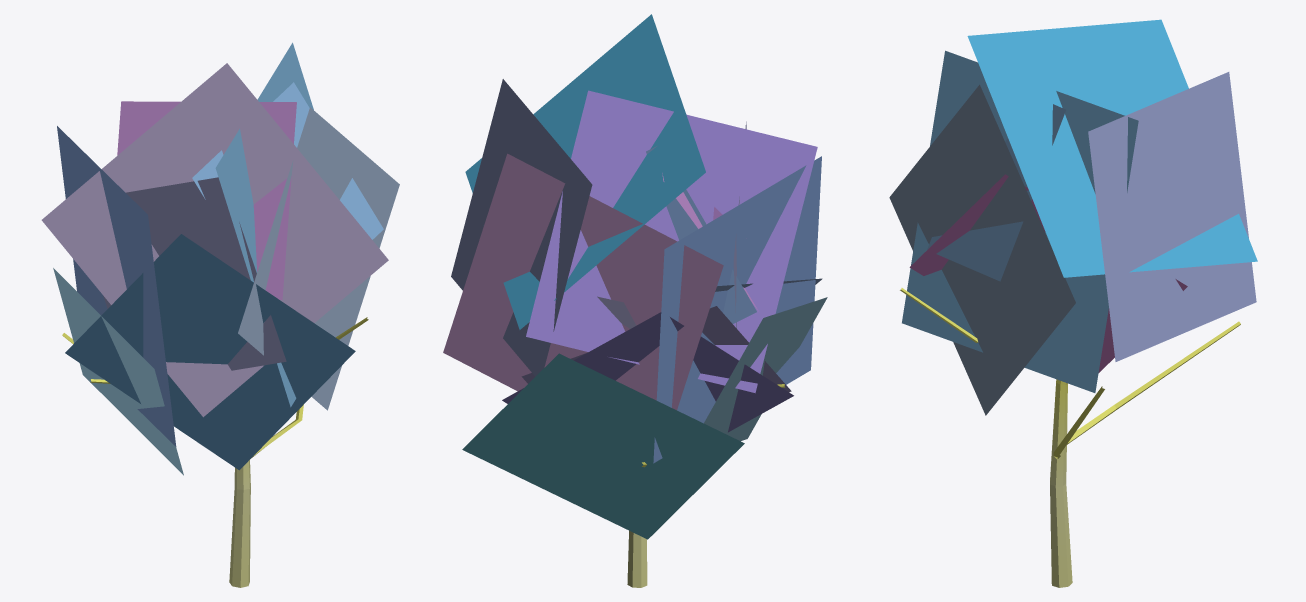
The model's file is tree_oak_3.glb.
The picture shows the model from 3 angles, left to right: view 1: azimuth 30°, elevation 25°; view 2: azimuth 150°, elevation 25°; view 3: azimuth 270°, elevation 25°; orthographic projection. The views are drawn at different scales.
Visible parts, largest first — view 1: tree_oak_3; view 2: tree_oak_3; view 3: tree_oak_3.
Boxes of the visible parts, <box> form: tree_oak_3: <box>41,42,399,587</box>; tree_oak_3: <box>443,14,827,587</box>; tree_oak_3: <box>889,19,1257,587</box>.
Size of the model in its own units: 6.99 by 10.58 by 7.42.
